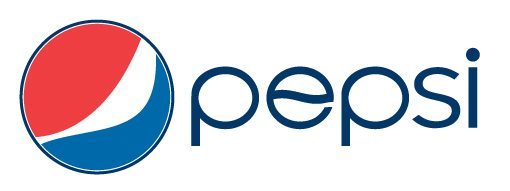pepsi: (14, 18, 174, 172), (18, 18, 174, 172)
